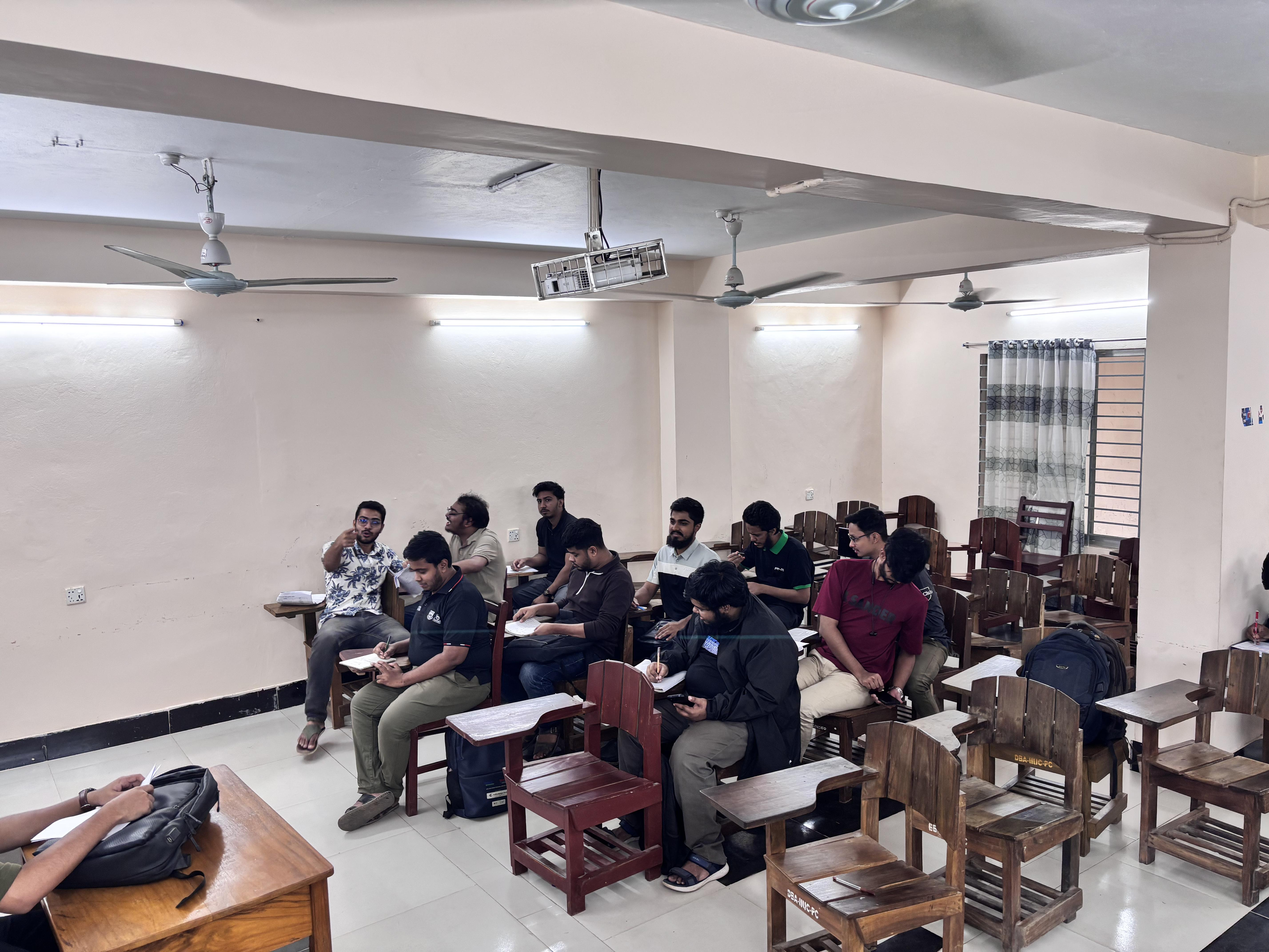copying: (831, 501, 901, 561)
no_cheating: (354, 528, 479, 682), (511, 522, 628, 661), (719, 486, 818, 626), (632, 491, 714, 623), (513, 478, 580, 579)
side_talking: (434, 488, 502, 582)
suspicious_moving: (319, 491, 398, 610)
using_phone: (643, 563, 764, 748), (820, 532, 936, 724)
